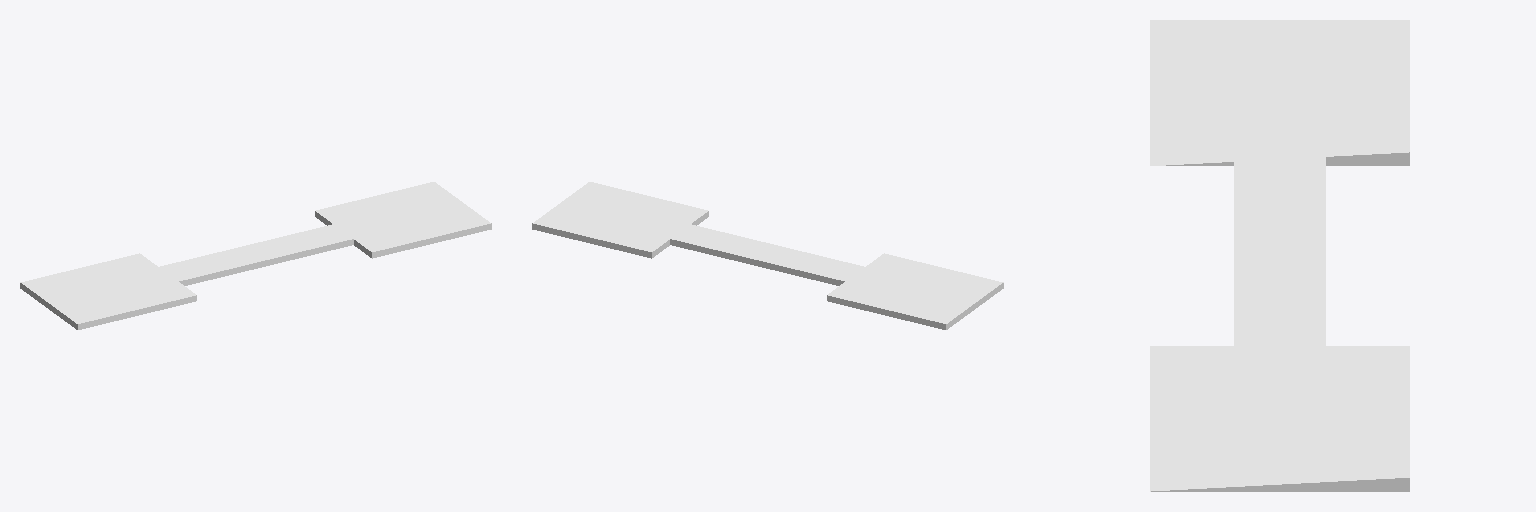
URDF robot description (bridge_1):
<robot name="bridge_1">
  <link name="base_link">
    <visual>
      <origin xyz="0 0 0" rpy="0 0 0" />
      <geometry>
        <mesh filename="package://hpp_environments/meshes/multicontact/daeun/bridge_1.stl"/>
      </geometry>
      <material name="white">
        <color rgba="1 1 1 1"/>
      </material>
    </visual>
    <collision>
      <origin xyz="0 0 0" rpy="0 0 0" />
      <geometry>
        <mesh filename="package://hpp_environments/meshes/multicontact/daeun/bridge_1.stl"/>
      </geometry>
    </collision>
  </link>
</robot>

--- Render facts (derived) ---
The picture shows the robot from 3 angles, left to right: view 1: azimuth 30°, elevation 25°; view 2: azimuth 150°, elevation 25°; view 3: azimuth 270°, elevation 25°; orthographic projection.
Robot: bridge_1 — 1 links, 0 joints (none); root link base_link; default pose: all joints at 0.
Visible links, largest first — view 1: base_link; view 2: base_link; view 3: base_link.
Boxes of the visible links, box(x1,y1,x2,y2) form: base_link: box(20, 182, 491, 329); base_link: box(532, 182, 1003, 329); base_link: box(1150, 20, 1409, 491).
Size in the robot's own frame: 7.1 by 1.7 by 0.1 metres.
Meshes: 1 distinct files referenced, 1 mesh visuals loaded (1 binary STL).
